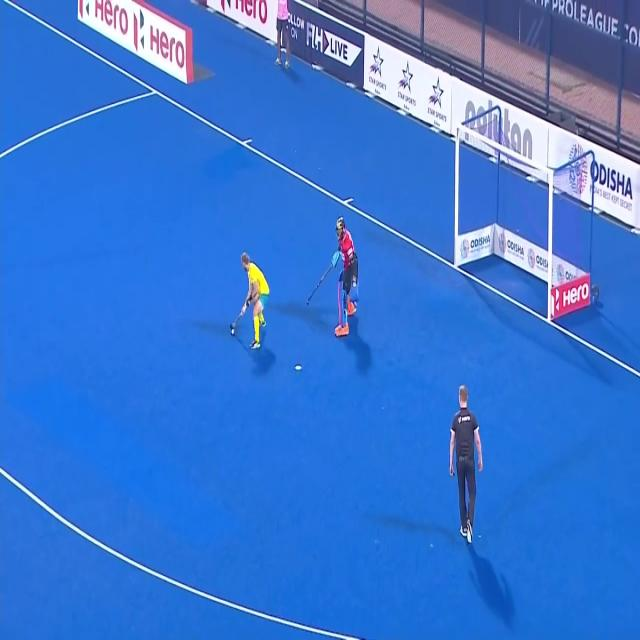ball: (230, 327, 236, 336)
